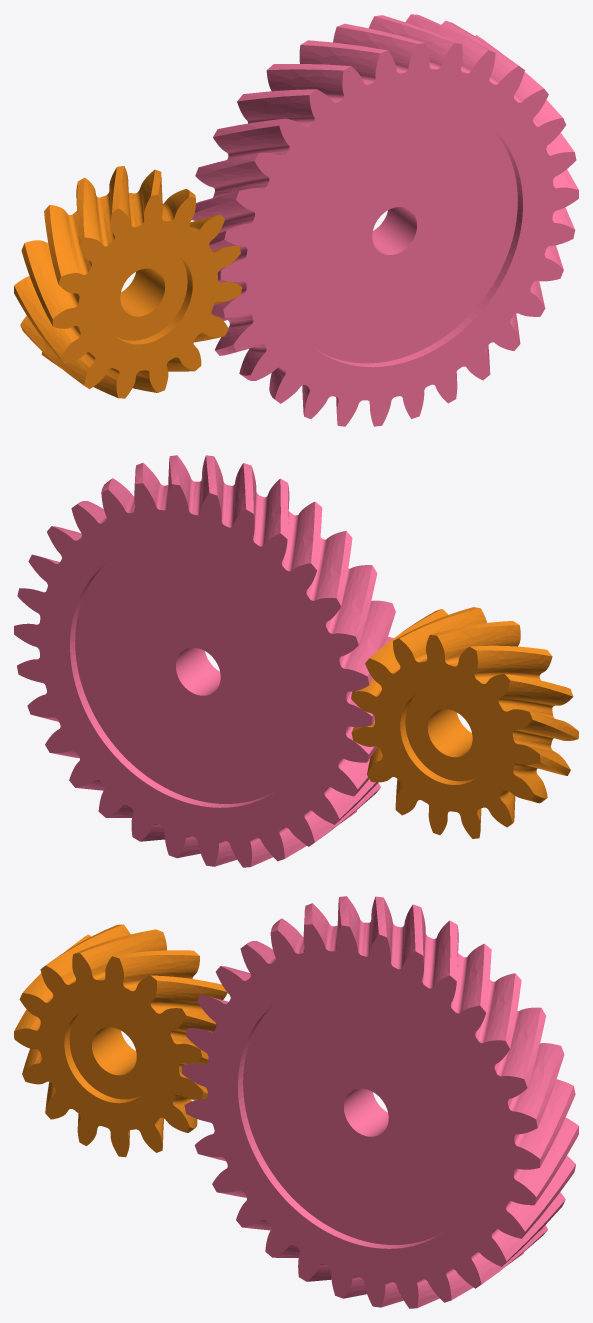
The model's file is GearHelix.obj.
3 renders of one model, top to bottom at view 1: azimuth 30°, elevation 25°; view 2: azimuth 150°, elevation 25°; view 3: azimuth 330°, elevation 25°, orthographic.
Visible parts, largest first — view 1: gear, pinion; view 2: gear, pinion; view 3: gear, pinion.
Boxes of the visible parts, x1,y1,x2,y2 form: gear: (192,14,578,426); pinion: (14,166,241,398); gear: (14,455,395,867); pinion: (351,607,578,838); gear: (182,896,578,1308); pinion: (14,924,227,1157).
Size of the model in its own units: 118 by 80 by 15.
